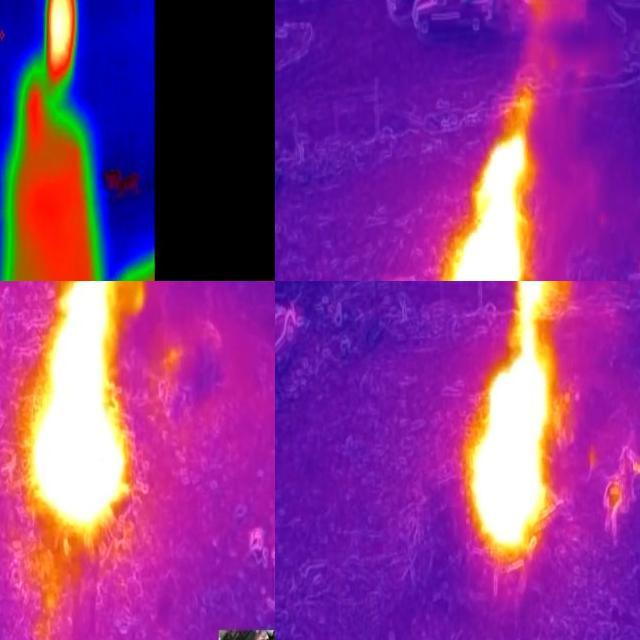fire: (25, 282, 133, 544), (470, 282, 555, 554), (449, 109, 535, 282), (45, 1, 78, 91)
